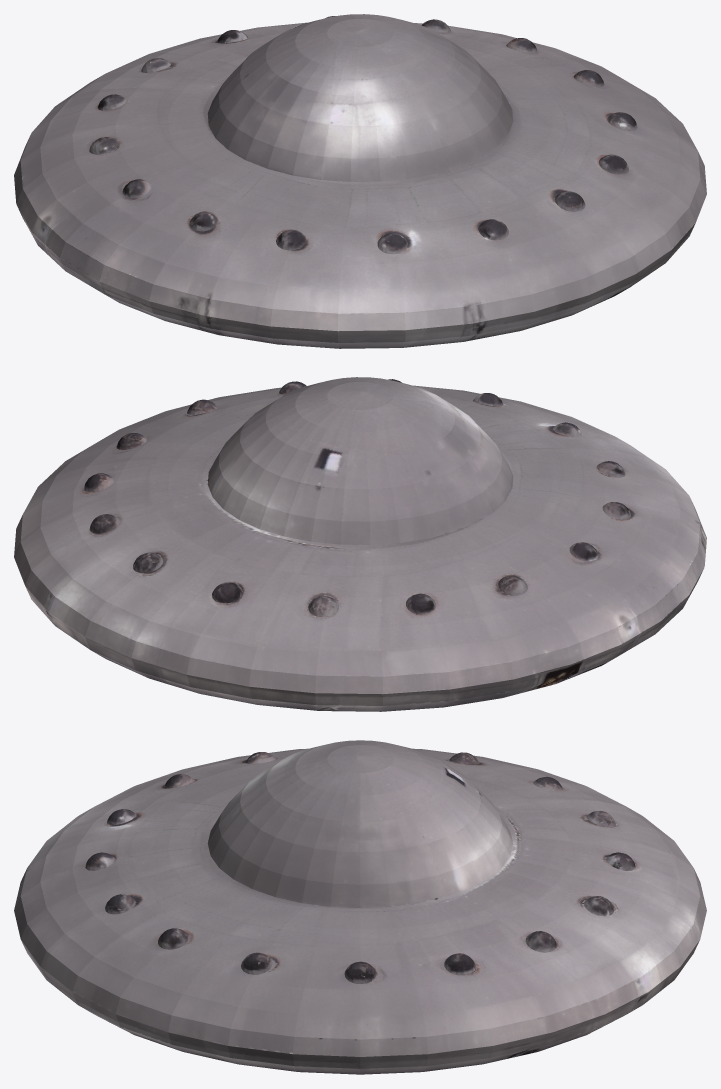
The model's file is UFO.glb.
3 renders of one model, top to bottom at view 1: azimuth 30°, elevation 25°; view 2: azimuth 150°, elevation 25°; view 3: azimuth 270°, elevation 25°, orthographic.
Parts seen in each view (by area): view 1: Node; view 2: Node; view 3: Node.
Part boxes in pixels (x1=…): Node: x1=14, y1=14, x2=706, y2=348; Node: x1=14, y1=377, x2=706, y2=711; Node: x1=14, y1=740, x2=706, y2=1074.
Size of the model in its own units: 2 by 0.7906 by 2.
1 material, 1 textured.
